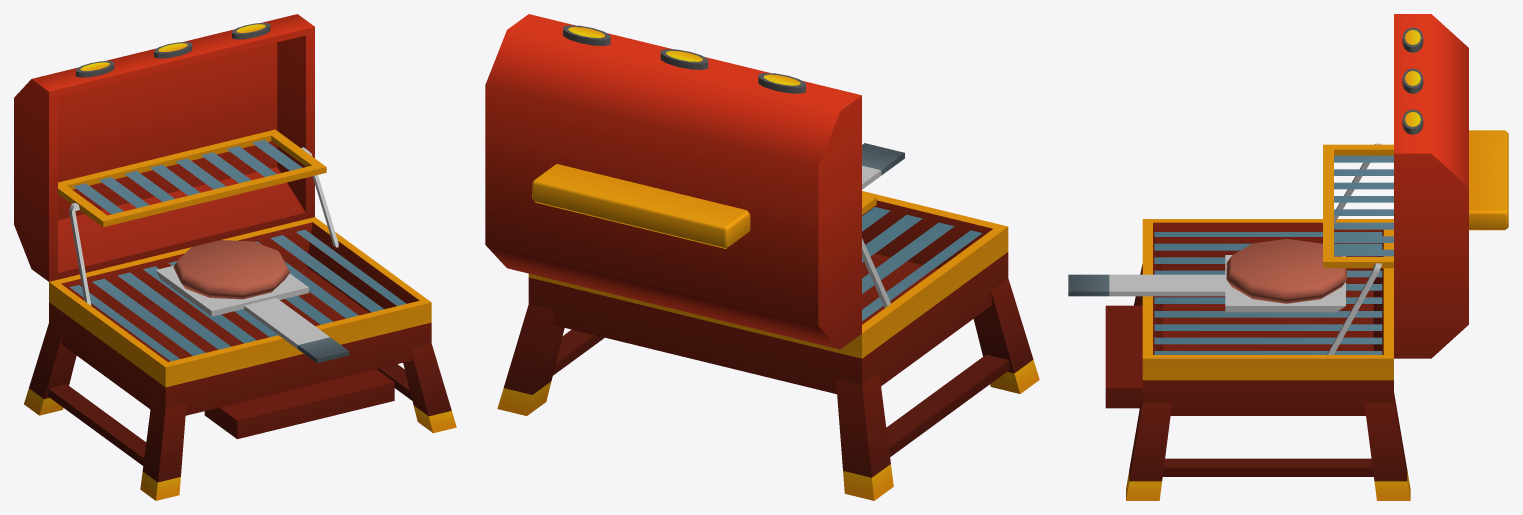
Rendered from Decor_Bepnuong.fbx.
3 renders of one model, left to right at view 1: azimuth 30°, elevation 25°; view 2: azimuth 150°, elevation 25°; view 3: azimuth 270°, elevation 25°, orthographic. The views are drawn at different scales.
Parts seen in each view (by area): view 1: Decor_Bepnuong; view 2: Decor_Bepnuong; view 3: Decor_Bepnuong.
Boxes of the visible parts, x1,y1,x2,y2 form: Decor_Bepnuong: [14, 14, 456, 500]; Decor_Bepnuong: [485, 14, 1039, 500]; Decor_Bepnuong: [1068, 14, 1508, 500].
Size of the model in its own units: 109 by 111 by 129.
